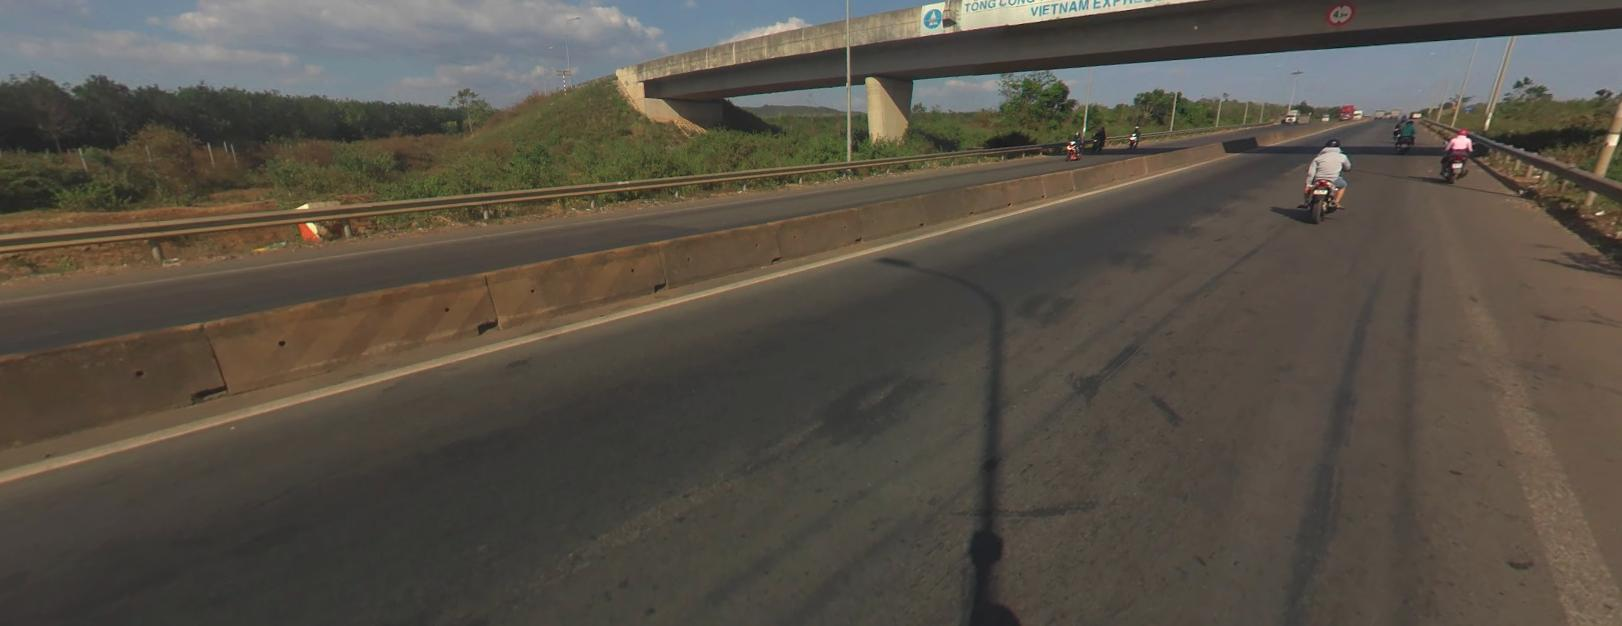Cam con lai: (1327, 0, 1355, 25)
